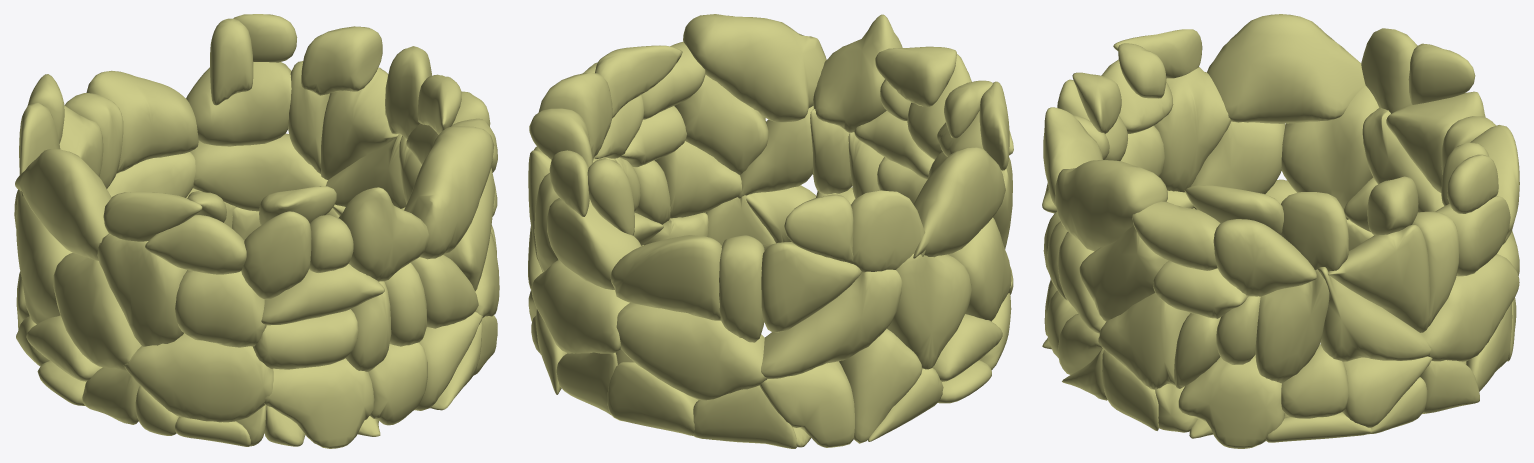
The model's file is TL_Well.fbx.
The picture shows the model from 3 angles, left to right: view 1: azimuth 30°, elevation 25°; view 2: azimuth 150°, elevation 25°; view 3: azimuth 270°, elevation 25°; orthographic projection.
Parts seen in each view (by area): view 1: Cylinder_cell.001; view 2: Cylinder_cell.001; view 3: Cylinder_cell.001.
Boxes of the visible parts, bbox=[...] form: Cylinder_cell.001: bbox=[14, 14, 499, 448]; Cylinder_cell.001: bbox=[528, 14, 1013, 448]; Cylinder_cell.001: bbox=[1042, 14, 1519, 448].
Size of the model in its own units: 520 by 296 by 523.
